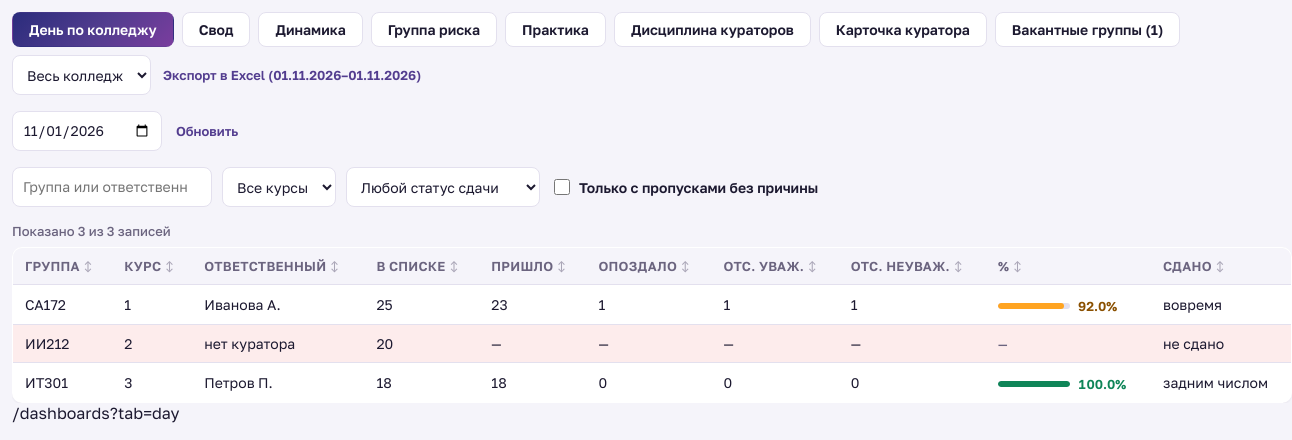
it: DashboardsPage — день по колледжу › фильтр по курсу
Check: the text "СА172" is shown, box top-left (12, 284), bottom-right (112, 324)
Select "Курс 2" in the dropdown named "Курс" at {"x": 279, "y": 187}, box top-left (222, 167), bottom-right (336, 207)
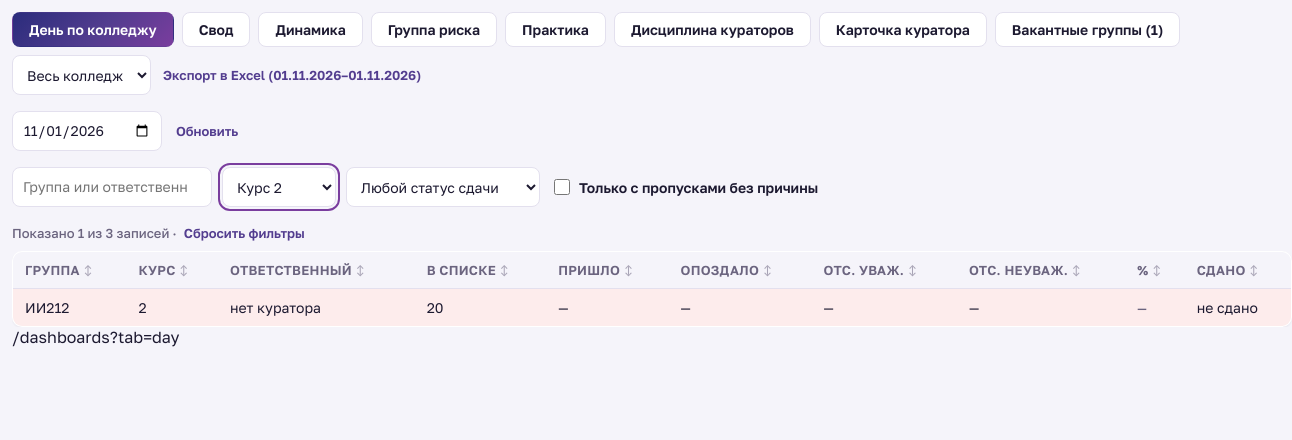
Check: the text "ИИ212" is shown, box top-left (12, 288), bottom-right (126, 326)
Check: the text "СА172" is gone
